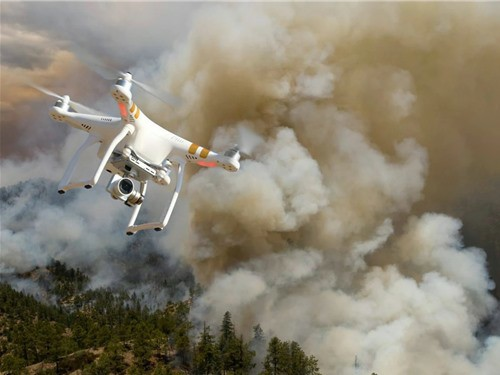maybay_khongnguoilai: (23, 67, 252, 227)
